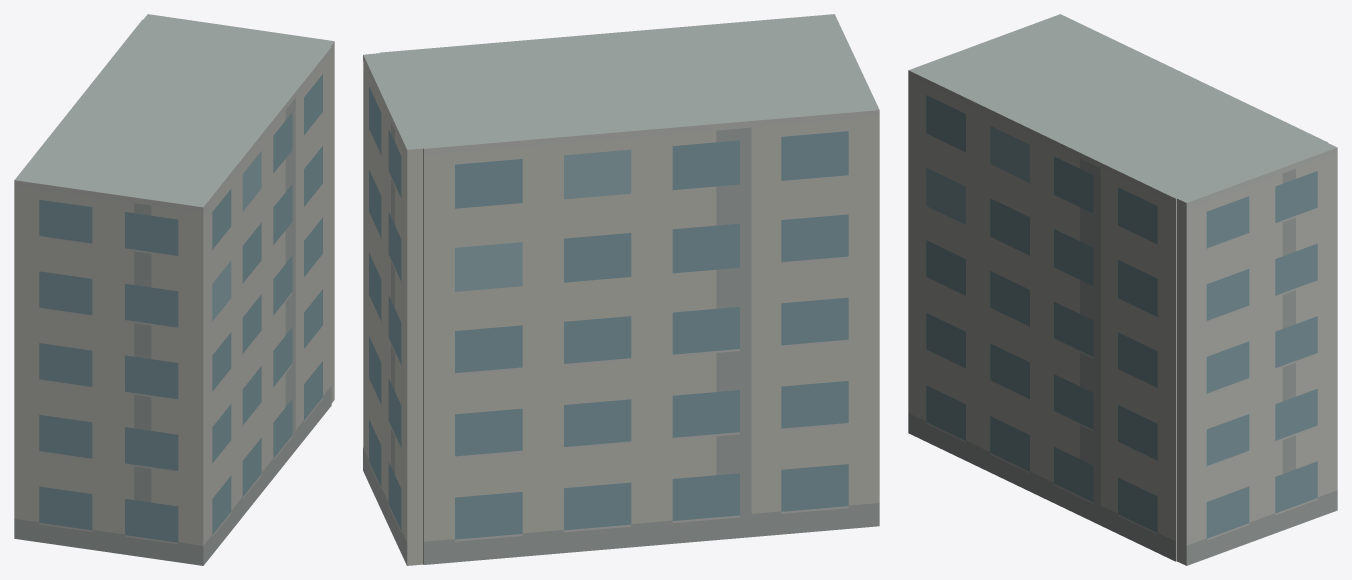
The model's file is survey-upis-32843760.glb.
3 renders of one model, left to right at view 1: azimuth 30°, elevation 25°; view 2: azimuth 150°, elevation 25°; view 3: azimuth 270°, elevation 25°, orthographic. The views are drawn at different scales.
Parts seen in each view (by area): view 1: survey-upis-32843760.tmp; view 2: survey-upis-32843760.tmp; view 3: survey-upis-32843760.tmp.
Boxes of the visible parts, left/top/right/bottom form: survey-upis-32843760.tmp: left=14, top=14, right=334, bottom=565; survey-upis-32843760.tmp: left=363, top=14, right=879, bottom=565; survey-upis-32843760.tmp: left=908, top=14, right=1337, bottom=565.
Size of the model in its own units: 17.1 by 15.3 by 16.41.
